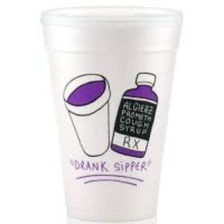paper_cup: (33, 0, 188, 224)
